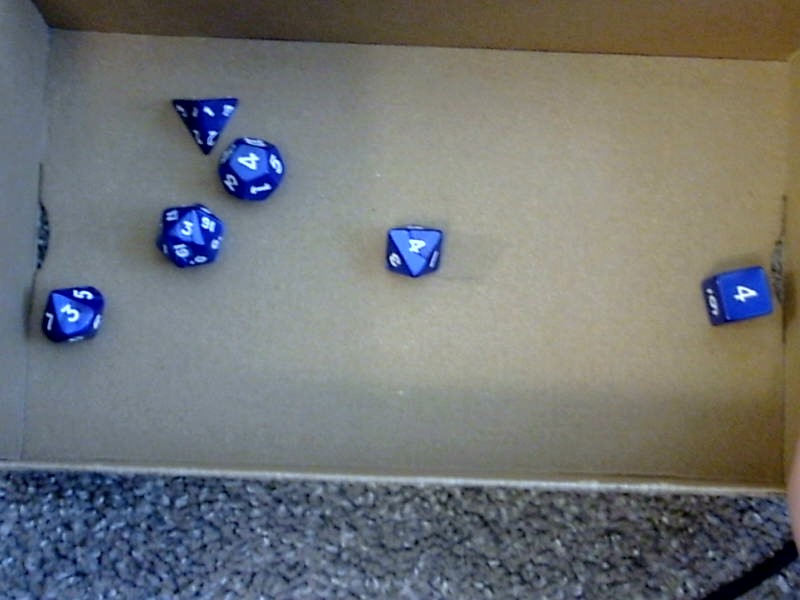d10 3: (35, 279, 113, 345)
d12 4: (218, 132, 290, 202)
d20 3: (154, 204, 229, 269)
d4 1: (169, 90, 240, 155)
d6 4: (697, 260, 777, 331)
d8 4: (379, 216, 446, 278)
